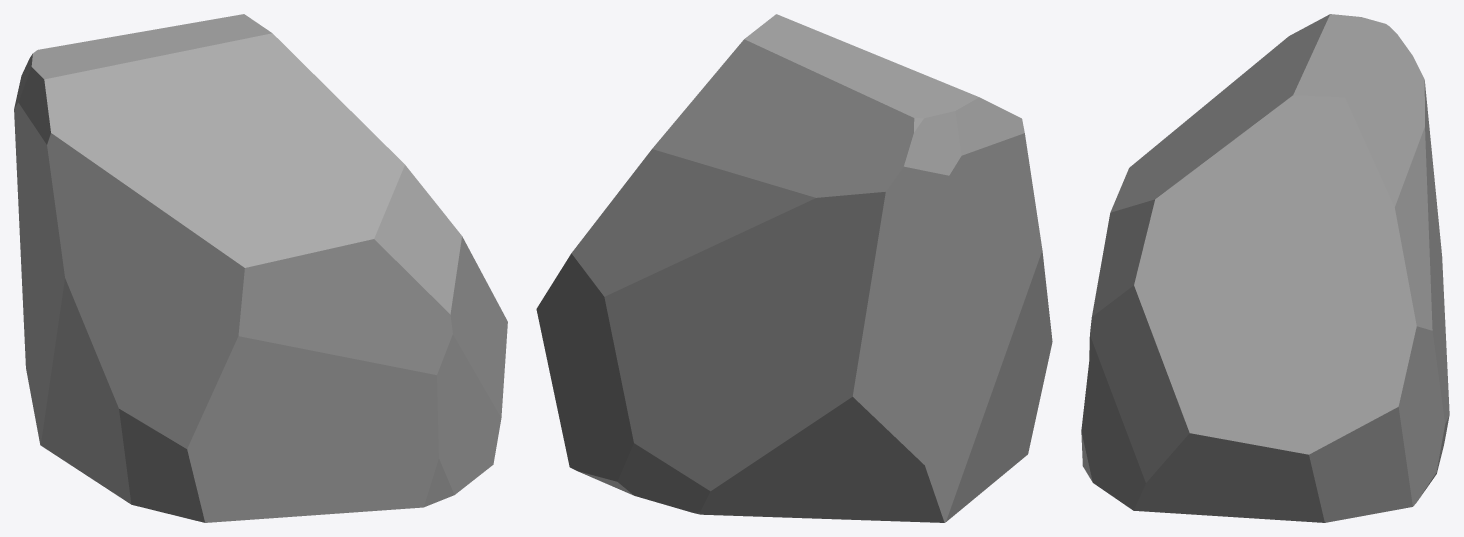
File: HardRock_29.fbx
The picture shows the model from 3 angles, left to right: view 1: azimuth 30°, elevation 25°; view 2: azimuth 150°, elevation 25°; view 3: azimuth 270°, elevation 25°; orthographic projection. The views are drawn at different scales.
Parts seen in each view (by area): view 1: HardRock_29; view 2: HardRock_29; view 3: HardRock_29.
Part boxes in pixels (x1,y1,x2,y2): HardRock_29: (14,14,507,522); HardRock_29: (536,14,1052,522); HardRock_29: (1081,14,1449,522).
Bounding box in the file's own units: 108 × 98.86 × 92.14.
